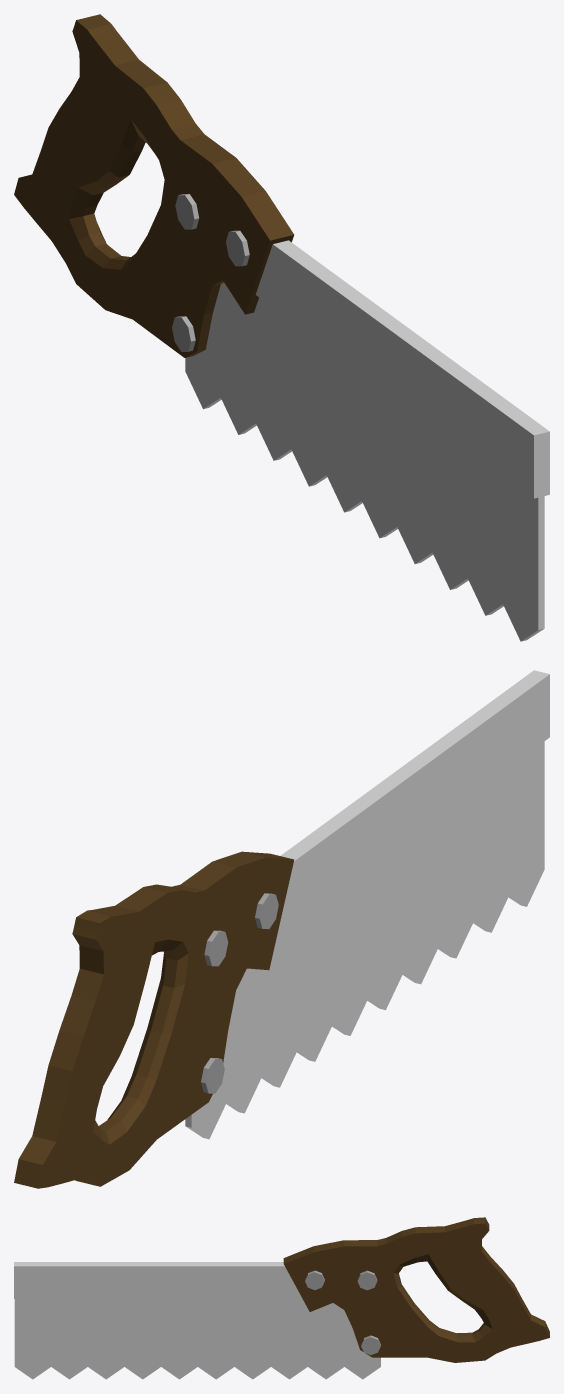
The model's file is saw_small_lowcount.glb.
The picture shows the model from 3 angles, top to bottom: view 1: azimuth 30°, elevation 25°; view 2: azimuth 150°, elevation 25°; view 3: azimuth 270°, elevation 25°; orthographic projection. The views are drawn at different scales.
Parts seen in each view (by area): view 1: saw_small_lowcount; view 2: saw_small_lowcount; view 3: saw_small_lowcount.
Part boxes in pixels (x1,y1,x2,y2): saw_small_lowcount: (14,14,549,641); saw_small_lowcount: (14,670,549,1188); saw_small_lowcount: (14,1217,549,1379).
Bounding box in the file's own units: 73.73 × 591 × 1813.
